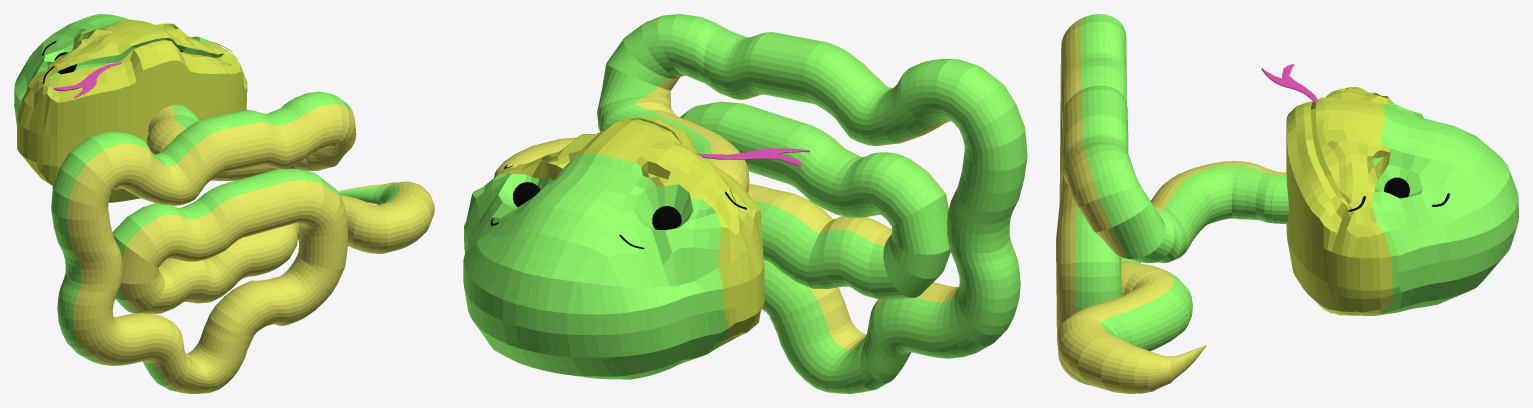
File: snake.glb
3 renders of one model, left to right at view 1: azimuth 30°, elevation 25°; view 2: azimuth 150°, elevation 25°; view 3: azimuth 270°, elevation 25°, orthographic. The views are drawn at different scales.
Visible parts, largest first — view 1: Lower_Body, Lower_Head, Upper_Body, Upper_Head, Tongue; view 2: Upper_Body, Upper_Head, Lower_Head, Lower_Body, Eyes, Tongue; view 3: Upper_Body, Upper_Head, Lower_Head, Lower_Body, Tongue, Eyes.
Boxes of the visible parts, x1,y1,x2,y2 form: Lower_Body: (67, 104, 434, 393); Lower_Head: (17, 19, 247, 202); Upper_Body: (51, 91, 399, 393); Upper_Head: (14, 14, 223, 125); Tongue: (53, 62, 121, 98); Upper_Body: (597, 14, 1027, 393); Upper_Head: (463, 153, 728, 379); Lower_Head: (472, 117, 764, 347); Lower_Body: (494, 23, 1024, 349); Eyes: (513, 182, 681, 229); Tongue: (696, 148, 809, 167); Upper_Body: (1075, 14, 1288, 393); Upper_Head: (1372, 100, 1518, 315); Lower_Head: (1286, 87, 1392, 315); Lower_Body: (1056, 19, 1286, 393); Tongue: (1261, 64, 1317, 109); Eyes: (1384, 177, 1409, 198).
Bounding box in the file's own units: 9.26 × 6.3 × 8.48.
